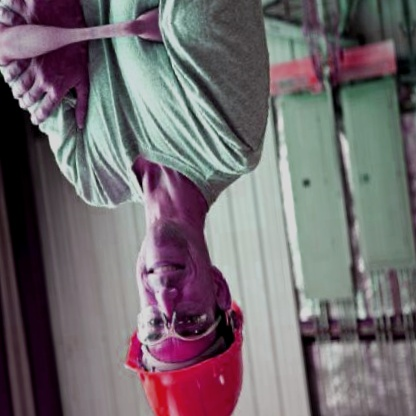yellow: (111, 300, 278, 416)
